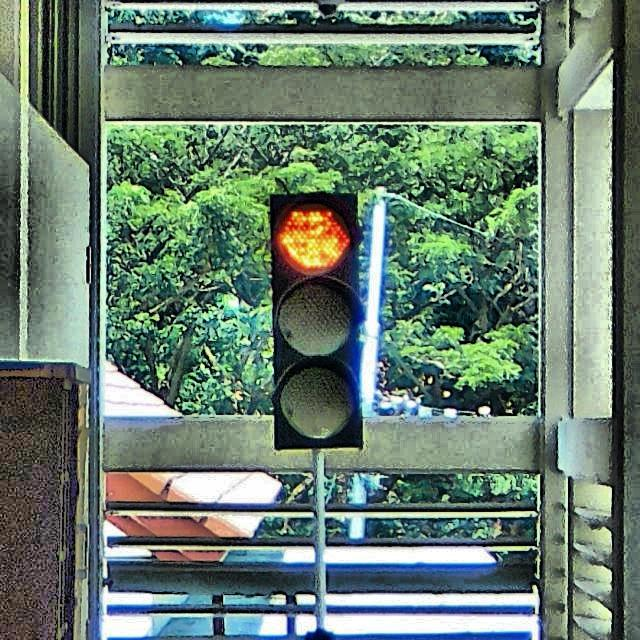red: (269, 192, 366, 447)
